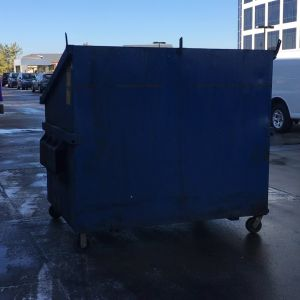Dumpster: (36, 30, 285, 251)
